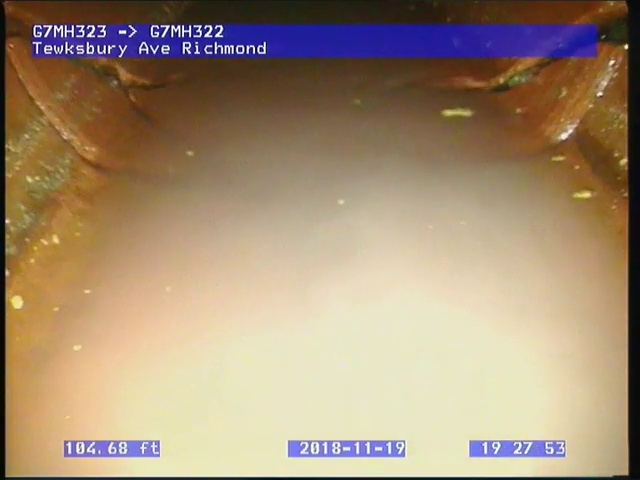crack: (7, 20, 195, 135), (437, 17, 628, 96)
